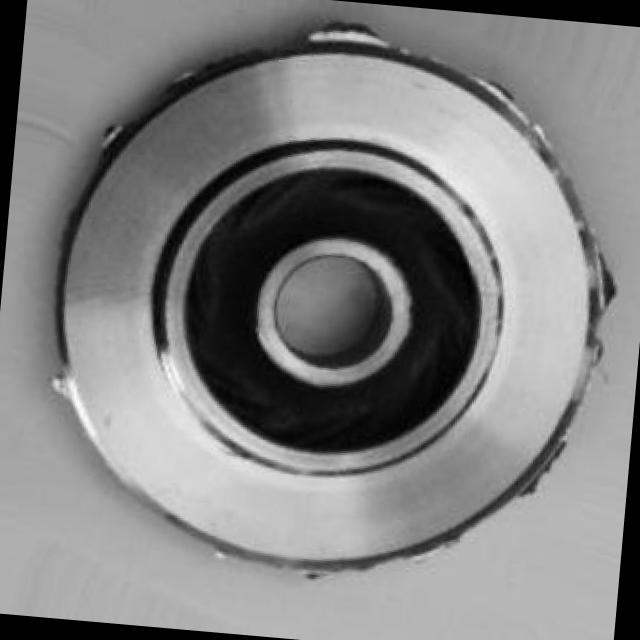Defect: (300, 8, 406, 57)
